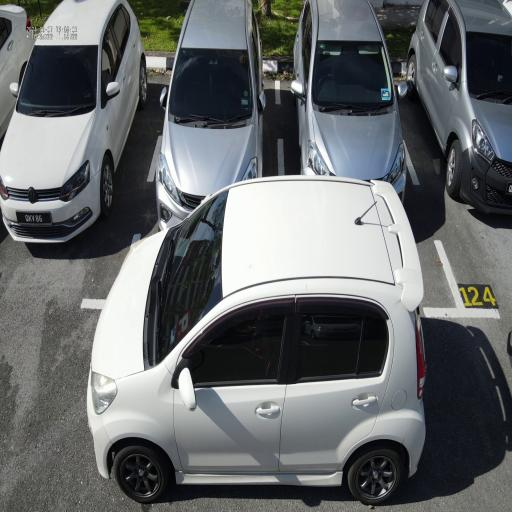Illegal: (86, 176, 428, 508)
Occupied: (274, 74, 468, 320), (128, 77, 284, 280)
